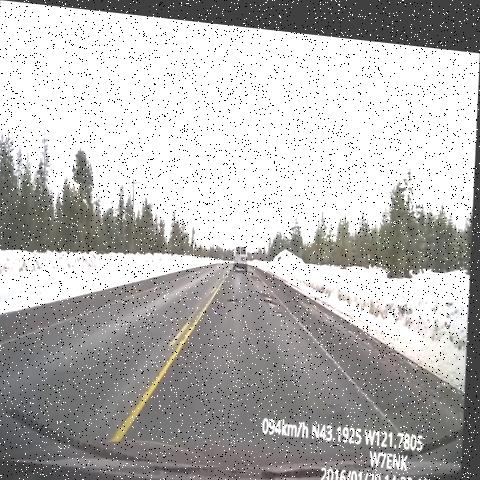pothole: (256, 281, 286, 303), (223, 282, 246, 308), (250, 265, 268, 283), (277, 300, 293, 318)
